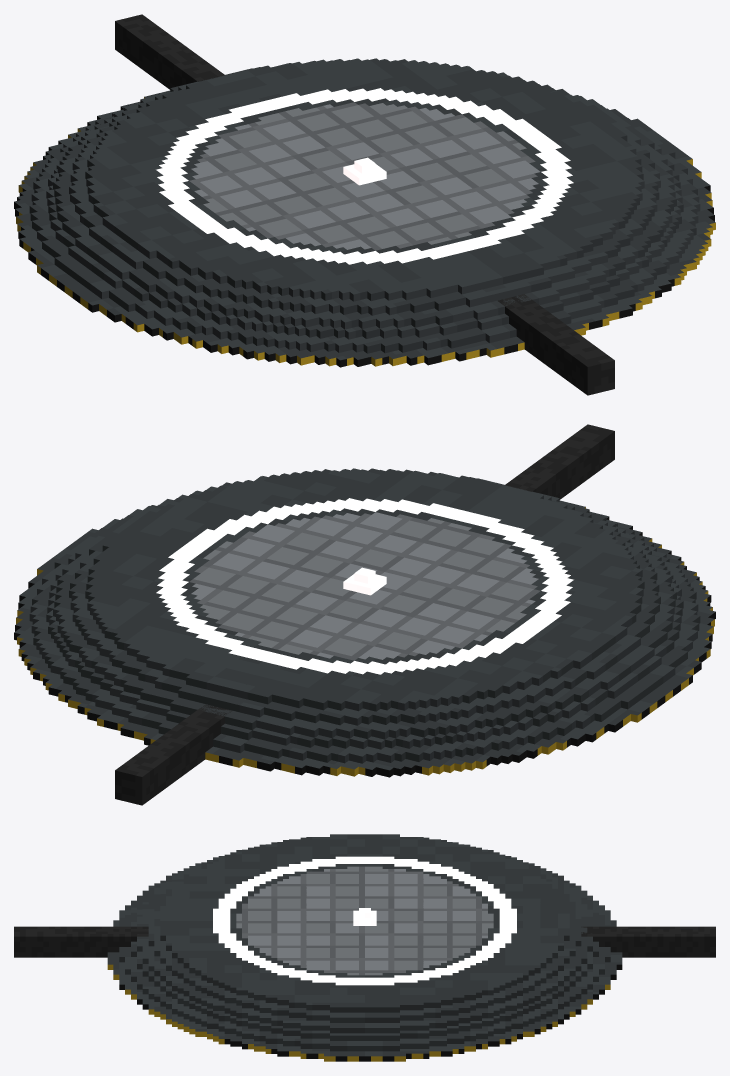
Rendered from poste_central_sol.glb.
The picture shows the model from 3 angles, top to bottom: view 1: azimuth 30°, elevation 25°; view 2: azimuth 150°, elevation 25°; view 3: azimuth 270°, elevation 25°; orthographic projection. The views are drawn at different scales.
Visible parts, largest first — view 1: voxel__poste_central_sol_socle__block, voxel__poste_central_sol_anneau__ns, voxel__poste_central_sol_cable__block, voxel__poste_central_sol_voyant__ns; view 2: voxel__poste_central_sol_socle__block, voxel__poste_central_sol_anneau__ns, voxel__poste_central_sol_cable__block, voxel__poste_central_sol_voyant__ns; view 3: voxel__poste_central_sol_socle__block, voxel__poste_central_sol_cable__block, voxel__poste_central_sol_anneau__ns, voxel__poste_central_sol_voyant__ns.
Part boxes in pixels (box(x1,y1,x2,y2)): voxel__poste_central_sol_socle__block: box(14, 58, 715, 367); voxel__poste_central_sol_anneau__ns: box(156, 88, 573, 264); voxel__poste_central_sol_cable__block: box(115, 14, 614, 395); voxel__poste_central_sol_voyant__ns: box(343, 157, 386, 185); voxel__poste_central_sol_socle__block: box(14, 468, 715, 777); voxel__poste_central_sol_anneau__ns: box(156, 498, 573, 674); voxel__poste_central_sol_cable__block: box(115, 424, 614, 805); voxel__poste_central_sol_voyant__ns: box(343, 567, 386, 595); voxel__poste_central_sol_socle__block: box(107, 834, 622, 1061); voxel__poste_central_sol_cable__block: box(14, 926, 715, 957); voxel__poste_central_sol_anneau__ns: box(213, 856, 516, 985); voxel__poste_central_sol_voyant__ns: box(353, 908, 376, 925).
Bounding box in the file's own units: 4.4 × 0.4 × 6.
